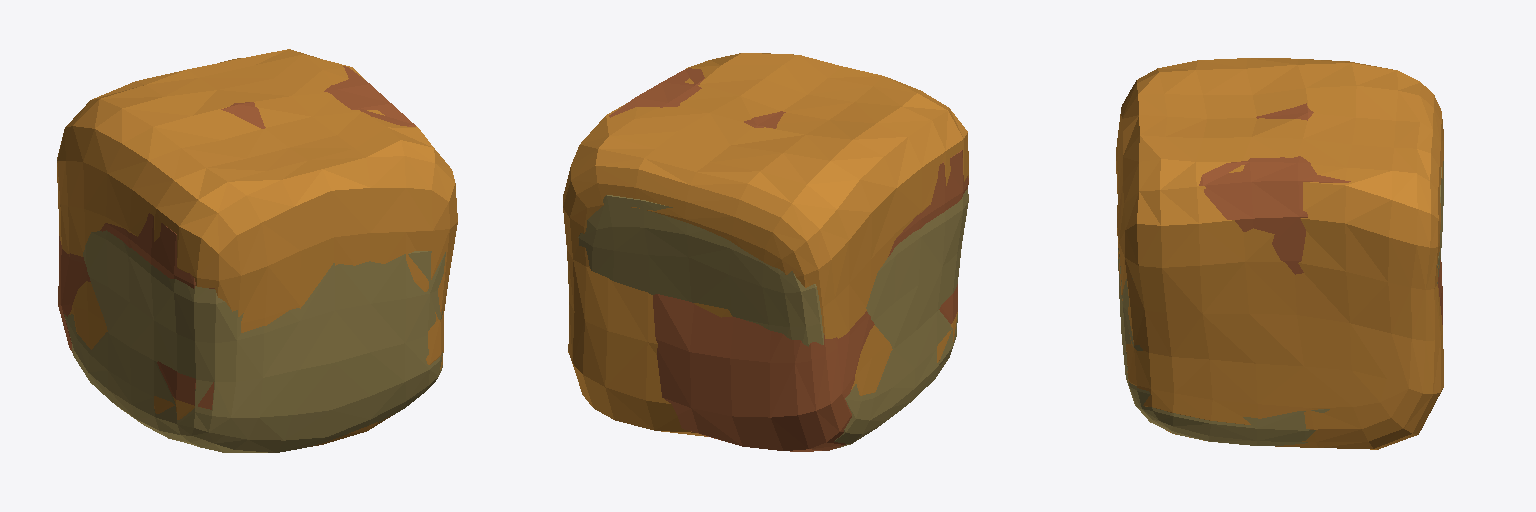
Rendered from block_dirt.obj.
3 views of the same model, side by side, from view 1: azimuth 30°, elevation 25°; view 2: azimuth 150°, elevation 25°; view 3: azimuth 270°, elevation 25° (orthographic).
Visible parts, largest first — view 1: block_dirt2_LOD0, block_dirt0_LOD0, block_dirt1_LOD0; view 2: block_dirt2_LOD0, block_dirt0_LOD0, block_dirt1_LOD0; view 3: block_dirt2_LOD0, block_dirt1_LOD0, block_dirt0_LOD0.
Part boxes in pixels (bbox=[...]): block_dirt2_LOD0: bbox=[57, 49, 457, 446]; block_dirt0_LOD0: bbox=[64, 230, 445, 452]; block_dirt1_LOD0: bbox=[58, 66, 415, 409]; block_dirt2_LOD0: bbox=[563, 53, 968, 436]; block_dirt0_LOD0: bbox=[578, 189, 968, 448]; block_dirt1_LOD0: bbox=[609, 68, 968, 451]; block_dirt2_LOD0: bbox=[1116, 58, 1443, 449]; block_dirt1_LOD0: bbox=[1199, 103, 1442, 324]; block_dirt0_LOD0: bbox=[1118, 161, 1443, 445].
Bounding box in the file's own units: 200 × 197 × 201.